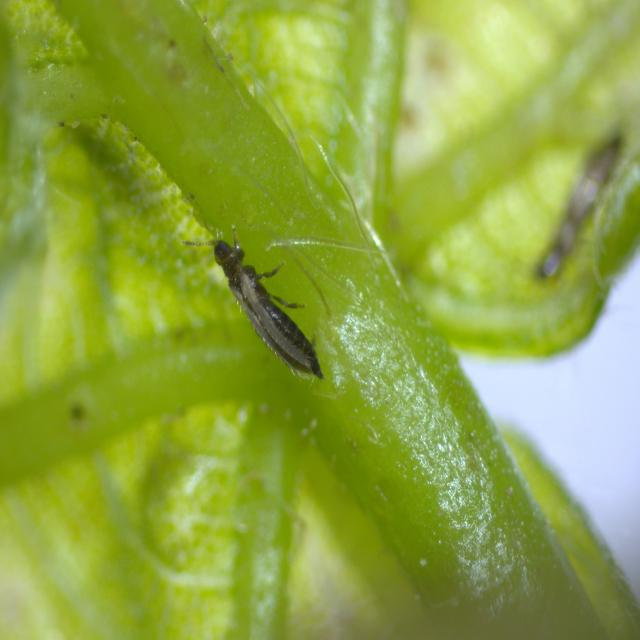Thrip-Adult-: (181, 228, 331, 388)
